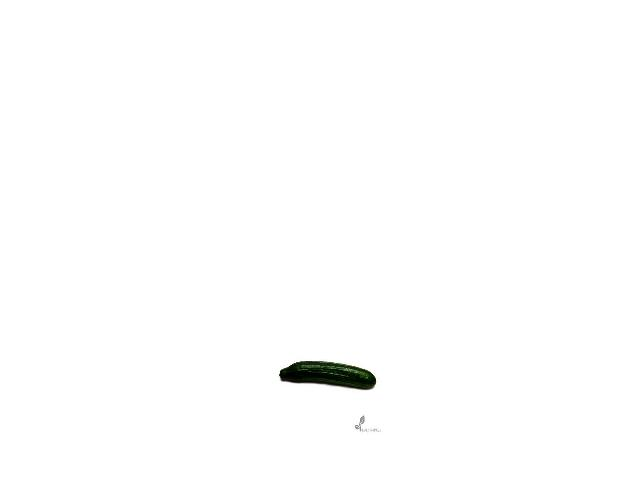cucumber: (279, 361, 376, 388)
